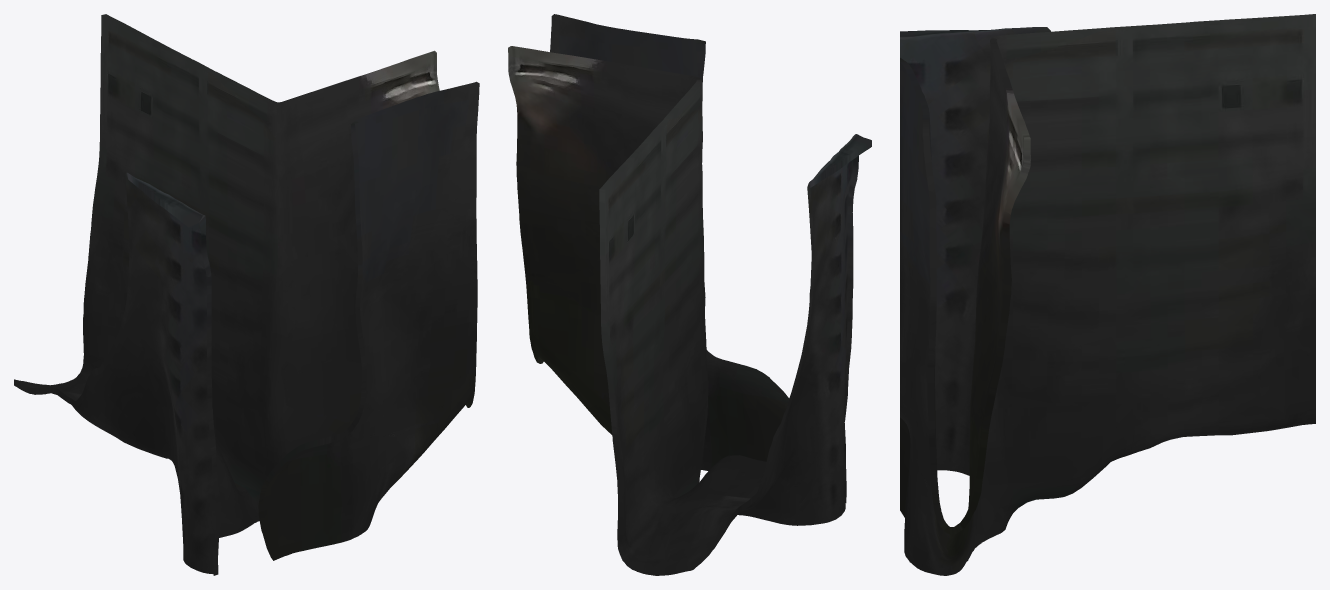
Rendered from z20-167766-405238-h1-yup-uvflip-v3-world.glb.
3 renders of one model, left to right at view 1: azimuth 30°, elevation 25°; view 2: azimuth 150°, elevation 25°; view 3: azimuth 270°, elevation 25°, orthographic. The views are drawn at different scales.
Size of the model in its own units: 30.2 by 40.08 by 30.32.
1 material, 1 textured.
